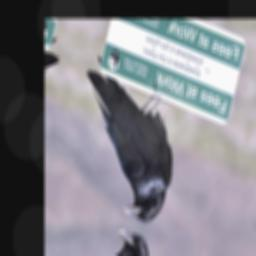Crow: (59, 51, 192, 231)
